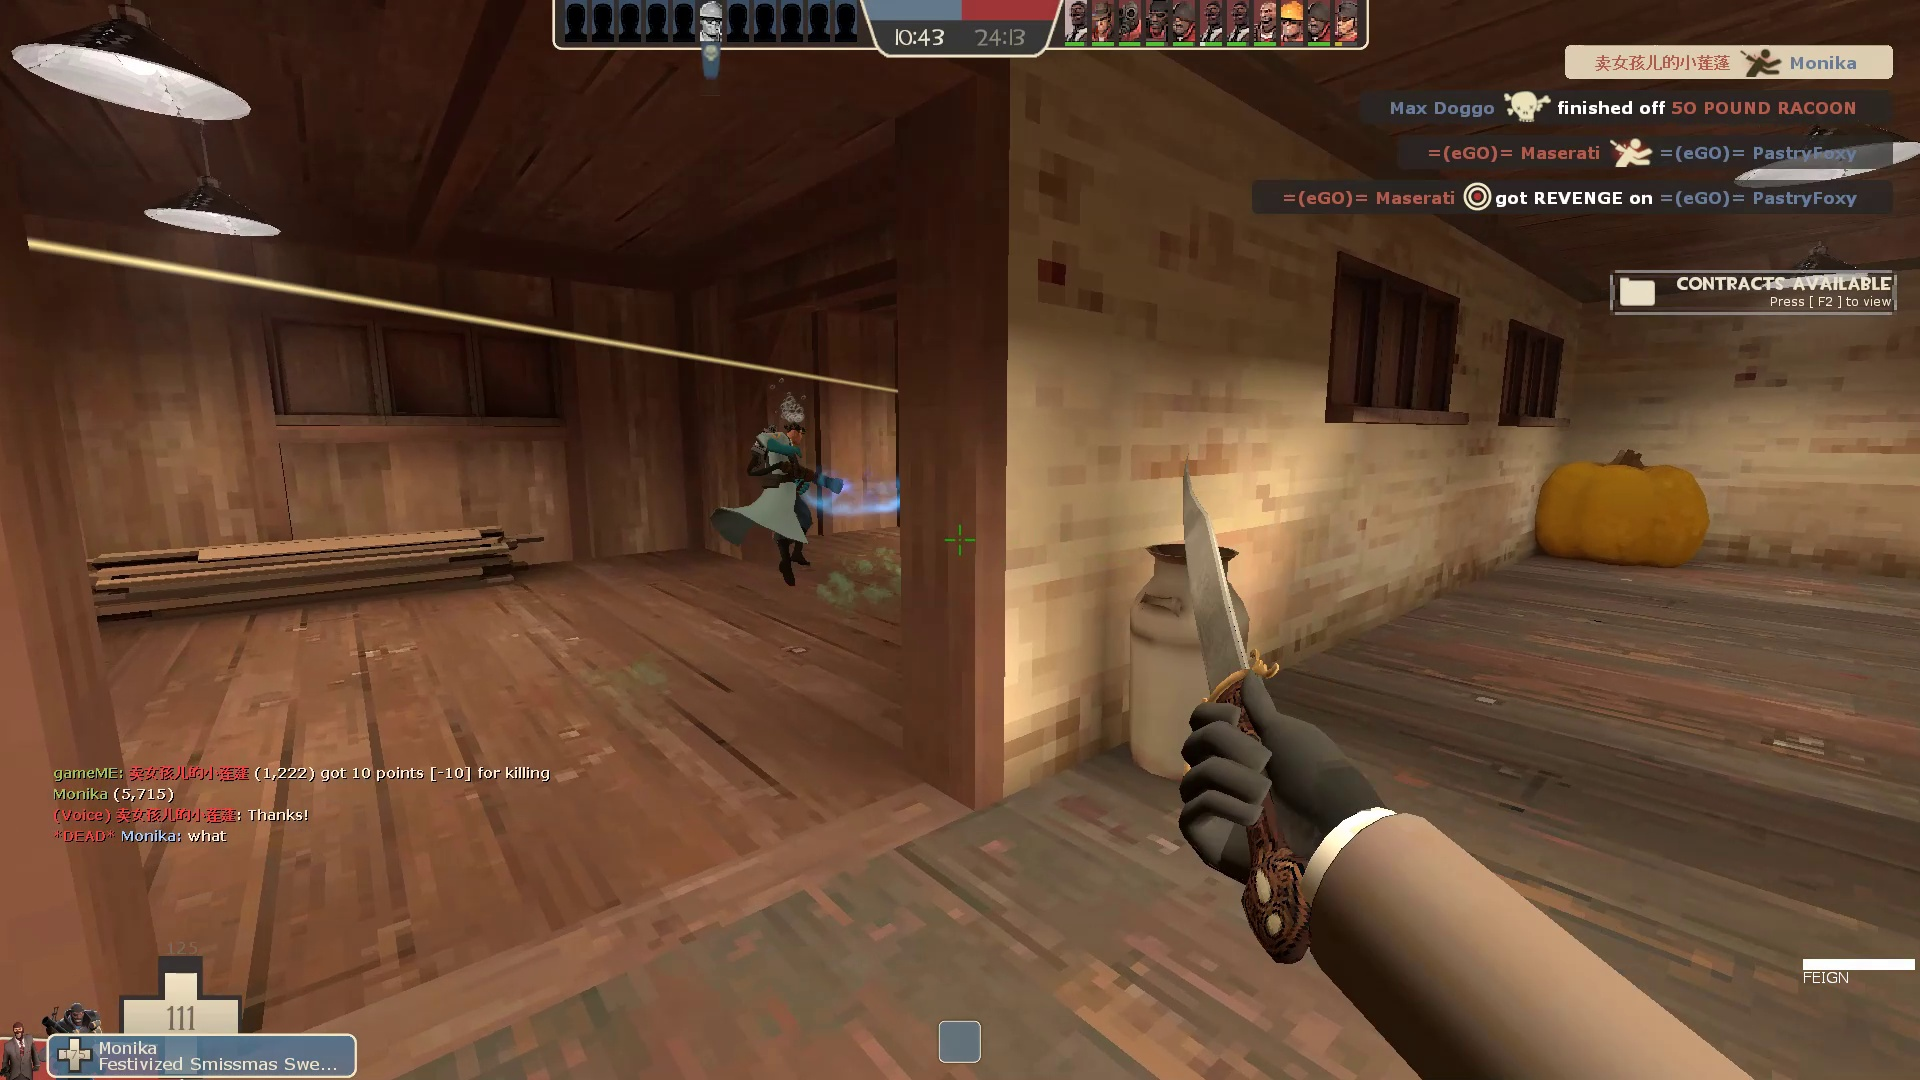blu_medic: (704, 401, 847, 597)
